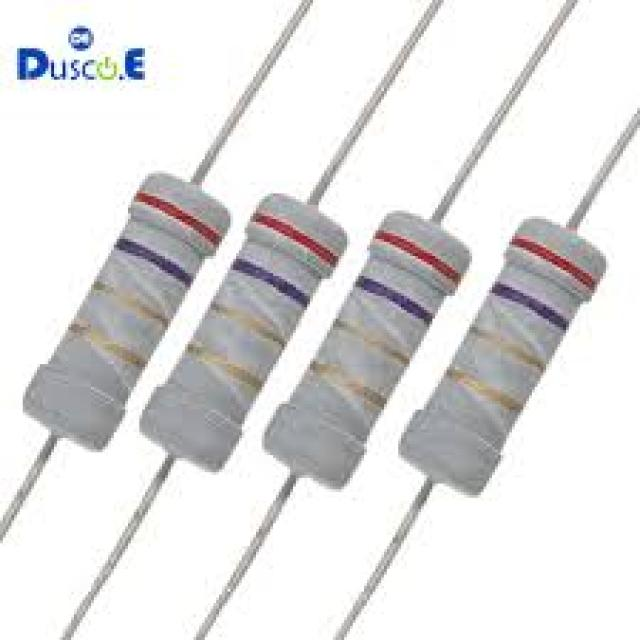Resistor: (22, 173, 230, 449), (270, 212, 472, 489), (143, 197, 345, 473), (406, 220, 606, 497)
